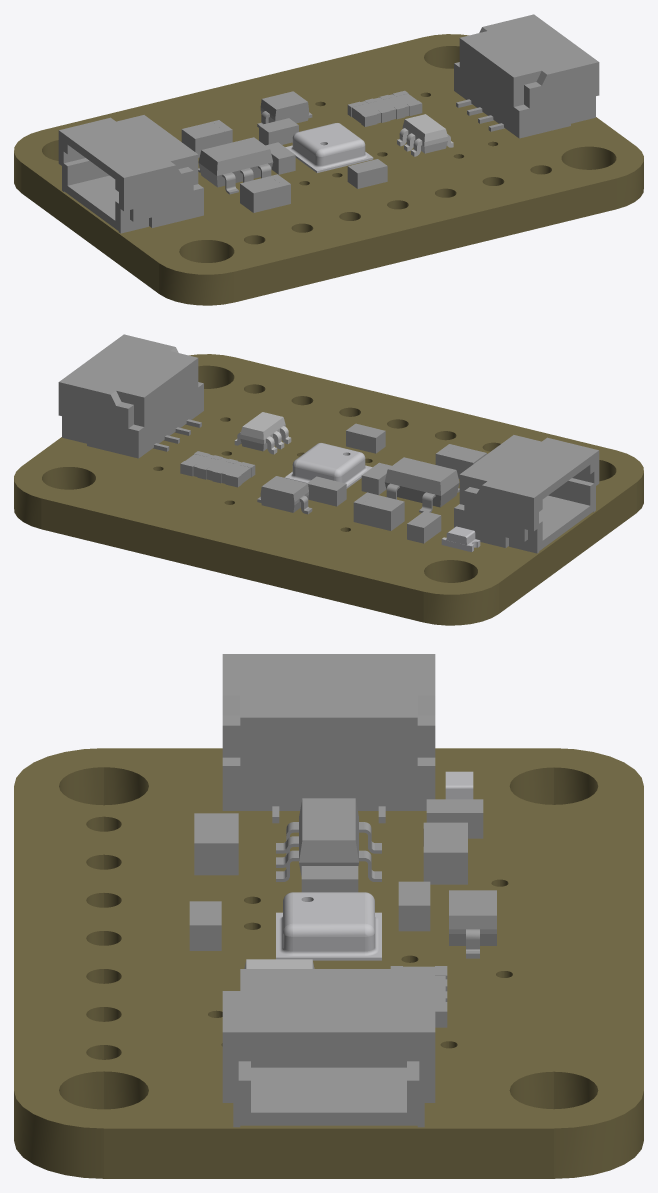
File: ada-5046.glb
The picture shows the model from 3 angles, top to bottom: view 1: azimuth 30°, elevation 25°; view 2: azimuth 150°, elevation 25°; view 3: azimuth 270°, elevation 25°; orthographic projection. The views are drawn at different scales.
Parts seen in each view (by area): view 1: 0.16666666666666666_0.16666666666666666_0.08333333333333333_, 0.3333333333333333_0.3333333333333333_0.3333333333333333_0, 0.5833333333333334_0.5833333333333334_0.5833333333333334_0.8, 0.5_0.5_0.5_0.85; view 2: 0.16666666666666666_0.16666666666666666_0.08333333333333333_, 0.3333333333333333_0.3333333333333333_0.3333333333333333_0, 0.5833333333333334_0.5833333333333334_0.5833333333333334_0.8, 0.5_0.5_0.5_0.85; view 3: 0.16666666666666666_0.16666666666666666_0.08333333333333333_, 0.3333333333333333_0.3333333333333333_0.3333333333333333_0, 0.5833333333333334_0.5833333333333334_0.5833333333333334_0.8.
Boxes of the visible parts, x1,y1,x2,y2 form: 0.16666666666666666_0.16666666666666666_0.08333333333333333_: [14, 34, 643, 305]; 0.3333333333333333_0.3333333333333333_0.3333333333333333_0: [58, 14, 599, 233]; 0.5833333333333334_0.5833333333333334_0.5833333333333334_0.8: [285, 123, 373, 172]; 0.5_0.5_0.5_0.85: [397, 114, 453, 156]; 0.16666666666666666_0.16666666666666666_0.08333333333333333_: [14, 354, 643, 625]; 0.3333333333333333_0.3333333333333333_0.3333333333333333_0: [58, 334, 599, 553]; 0.5833333333333334_0.5833333333333334_0.5833333333333334_0.8: [284, 443, 480, 552]; 0.5_0.5_0.5_0.85: [234, 412, 291, 454]; 0.16666666666666666_0.16666666666666666_0.08333333333333333_: [14, 748, 643, 1178]; 0.3333333333333333_0.3333333333333333_0.3333333333333333_0: [189, 654, 496, 1127]; 0.5833333333333334_0.5833333333333334_0.5833333333333334_0.8: [276, 771, 473, 960].
Bounding box in the file's own units: 2.54 × 0.4529 × 1.78.
